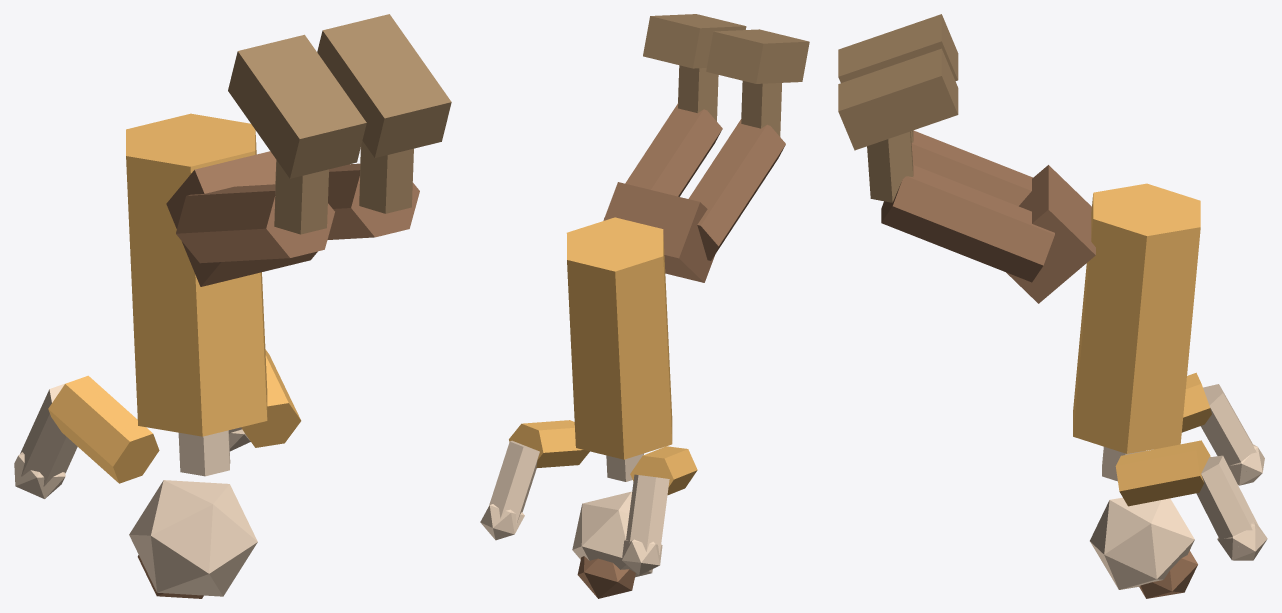
Rendered from pose_dodge_roll_25.glb.
3 renders of one model, left to right at view 1: azimuth 30°, elevation 25°; view 2: azimuth 150°, elevation 25°; view 3: azimuth 270°, elevation 25°, orthographic. The views are drawn at different scales.
Visible parts, largest first — view 1: pose; view 2: pose; view 3: pose.
Boxes of the visible parts, x1,y1,x2,y2 form: pose: (14,14,451,598); pose: (480,14,809,598); pose: (838,14,1267,598).
Size of the model in its own units: 0.4878 by 1.31 by 0.9306.
